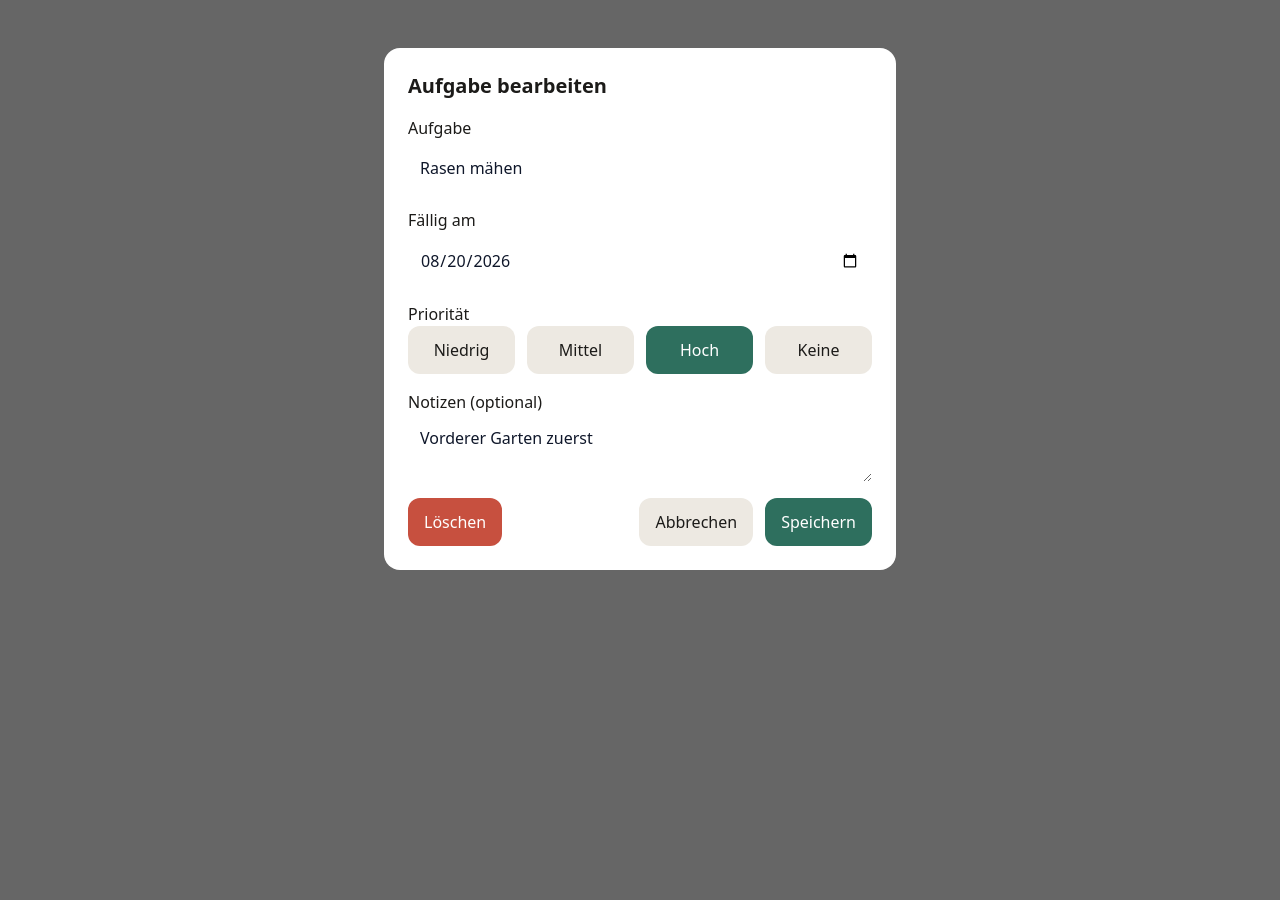
Test: TaskDialog (edit) › does not delete on the first Löschen tap
Click the button "Löschen".
click(455, 522)  # box [408,498,502,546]
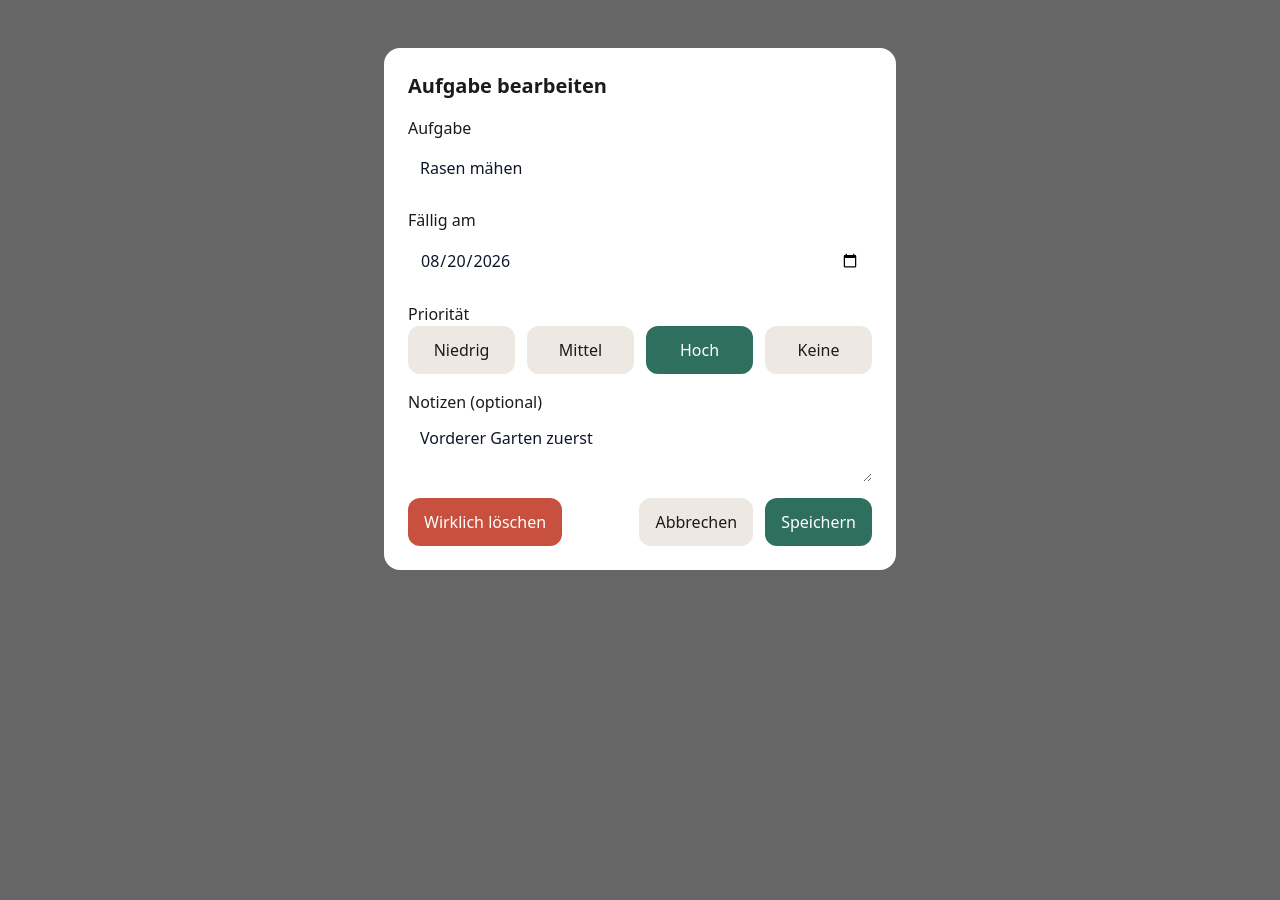
Expected: the button "Wirklich löschen" is shown, [408,498,562,546]
